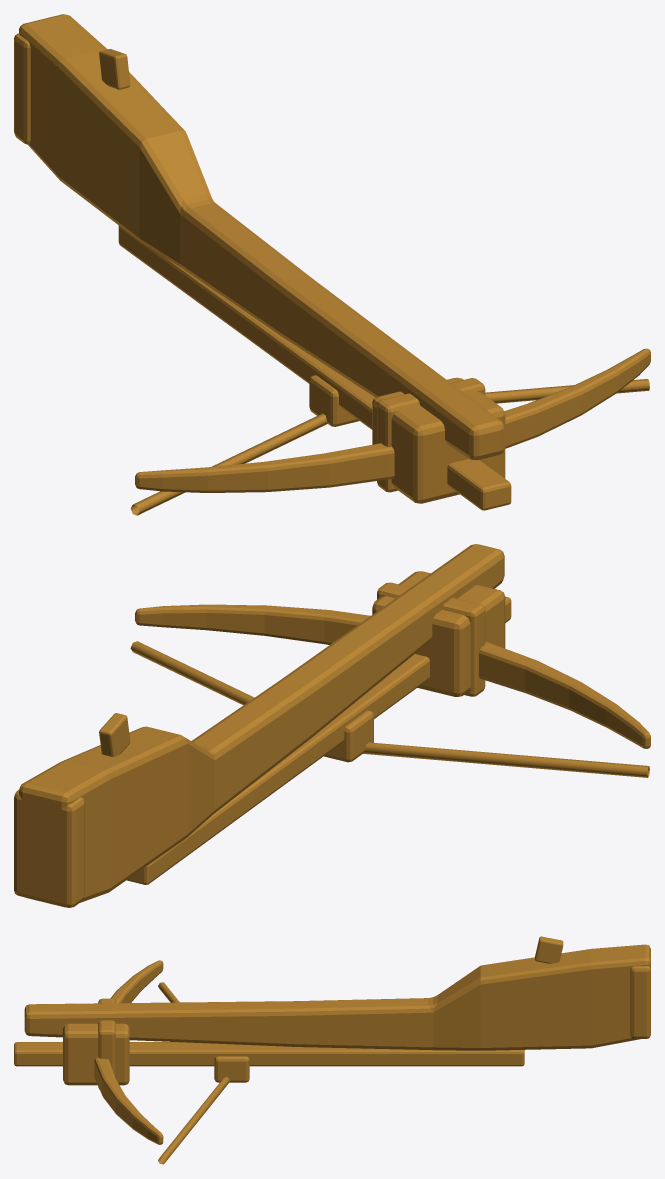
The model's file is AuxiliaImprovisedCrossbowCocked.fbx.
3 renders of one model, top to bottom at view 1: azimuth 30°, elevation 25°; view 2: azimuth 150°, elevation 25°; view 3: azimuth 270°, elevation 25°, orthographic. The views are drawn at different scales.
Parts seen in each view (by area): view 1: AuxiliaImprovisedCrossbowCocked_GameExport; view 2: AuxiliaImprovisedCrossbowCocked_GameExport; view 3: AuxiliaImprovisedCrossbowCocked_GameExport.
Part boxes in pixels (x1,y1,x2,y2): AuxiliaImprovisedCrossbowCocked_GameExport: [14, 14, 650, 515]; AuxiliaImprovisedCrossbowCocked_GameExport: [14, 544, 650, 907]; AuxiliaImprovisedCrossbowCocked_GameExport: [14, 936, 650, 1164].
Size of the model in its own units: 23.78 by 36.3 by 8.72.
